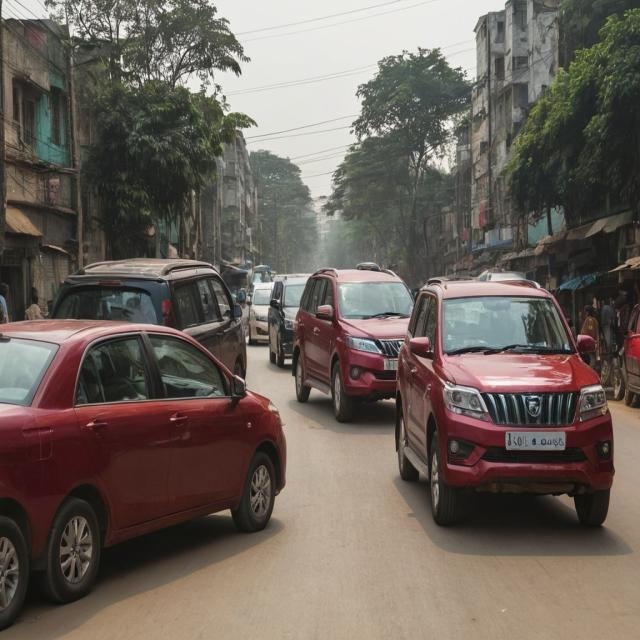black: (59, 262, 255, 397)
maroon: (0, 309, 296, 599), (400, 274, 623, 534), (296, 262, 416, 420)
